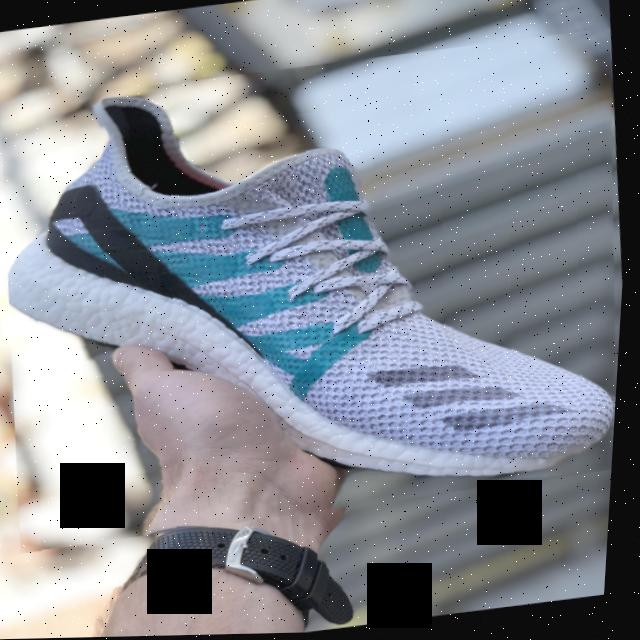shoe: (0, 30, 638, 554)
